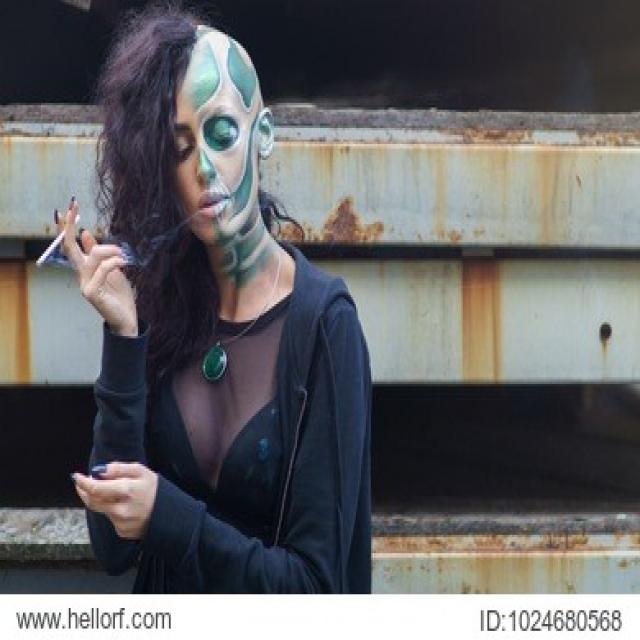smoke: (34, 228, 64, 270)
